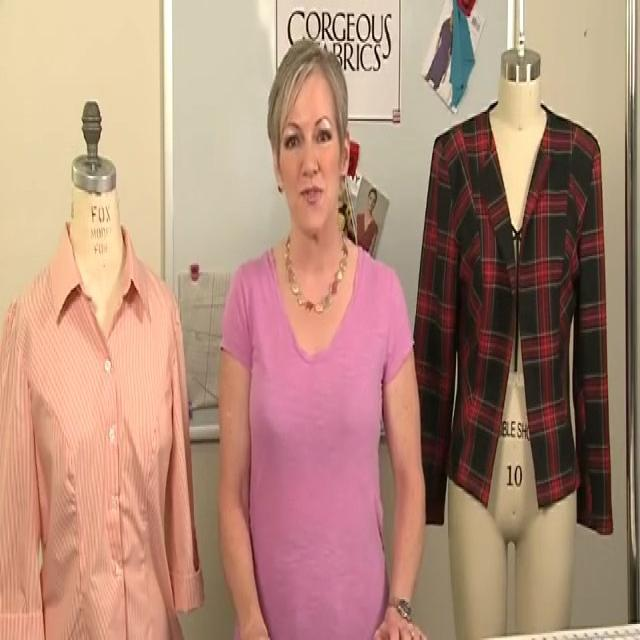shirt: (0, 219, 205, 640)
